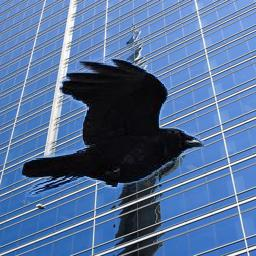Crow: (20, 57, 204, 197)
